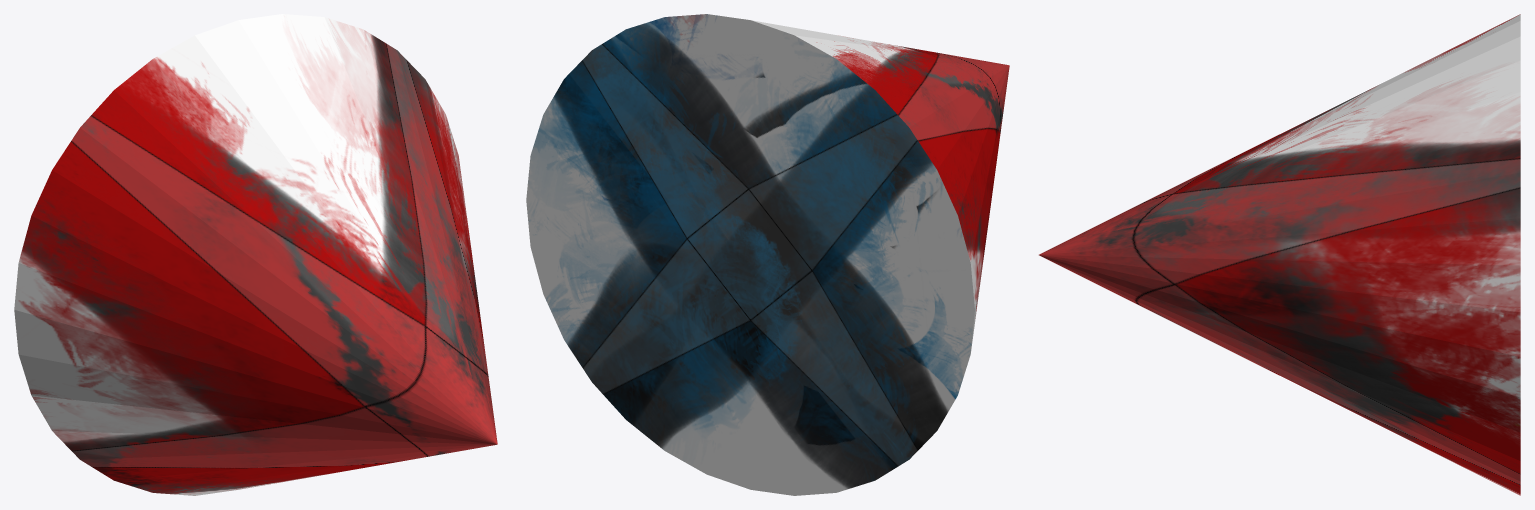
The model's file is player.obj.
3 renders of one model, left to right at view 1: azimuth 30°, elevation 25°; view 2: azimuth 150°, elevation 25°; view 3: azimuth 270°, elevation 25°, orthographic. The views are drawn at different scales.
Parts seen in each view (by area): view 1: 円錐; view 2: 円錐; view 3: 円錐.
Part boxes in pixels (x1,y1,x2,y2): 円錐: [14, 14, 497, 495]; 円錐: [526, 14, 1009, 495]; 円錐: [1039, 14, 1520, 495].
Bounding box in the file's own units: 1 × 1 × 1.
